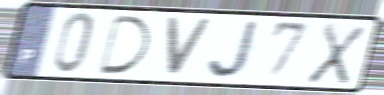0: (53, 11, 101, 77)
7: (266, 19, 315, 84)
D: (97, 13, 153, 76)
J: (205, 19, 264, 81)
V: (164, 15, 215, 80)
X: (304, 20, 370, 87)
